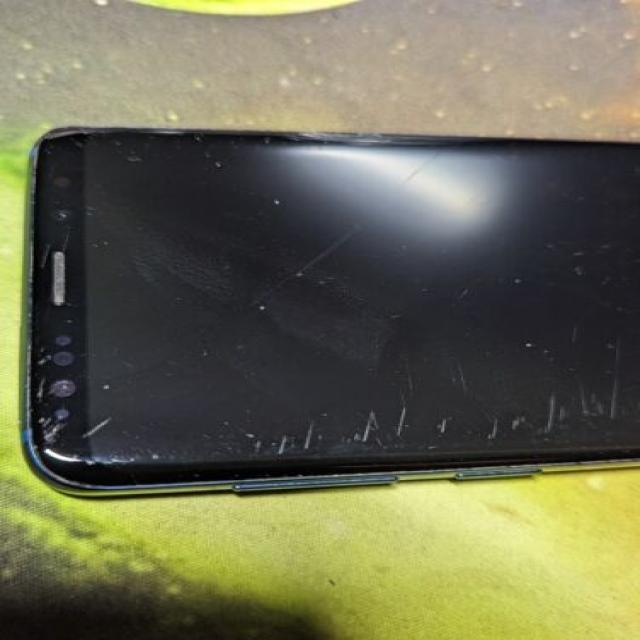Scratches: (39, 359, 72, 455), (75, 413, 128, 456), (344, 396, 379, 456), (390, 398, 417, 446), (544, 377, 563, 444), (304, 414, 325, 451), (439, 409, 462, 440), (484, 415, 504, 446), (277, 429, 295, 463)
